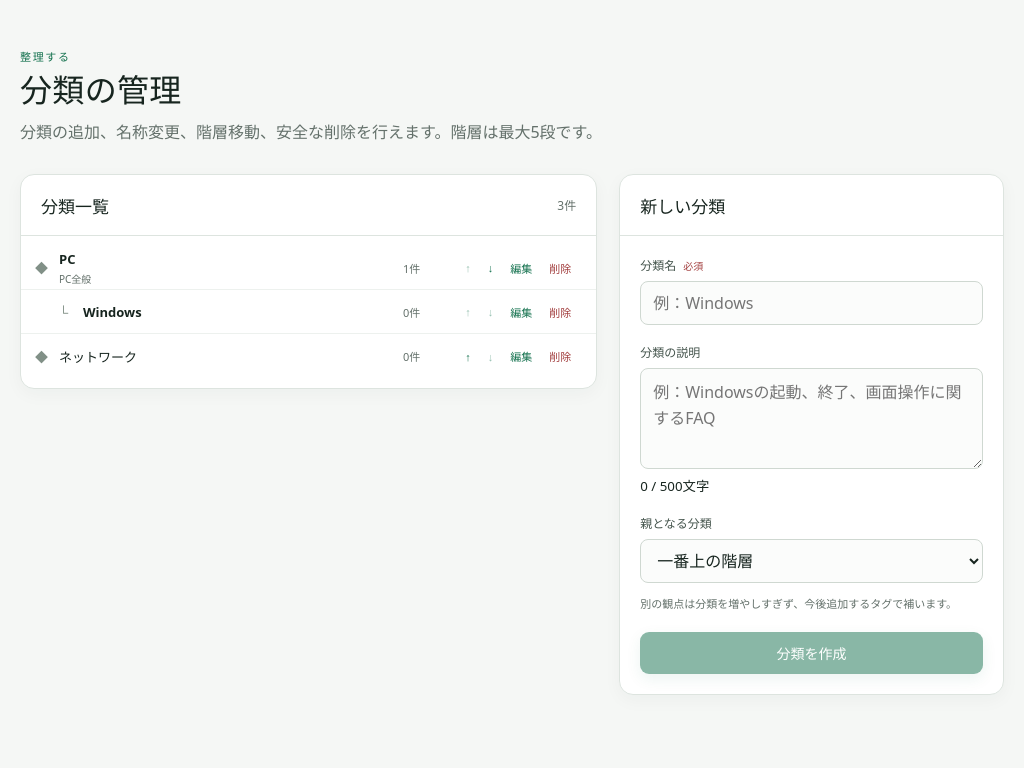
Test case: CategoriesPage › shows why a non-empty category cannot be deleted
Click the button "削除" in the row of "PC全般": (560, 268) [542,255,578,281]
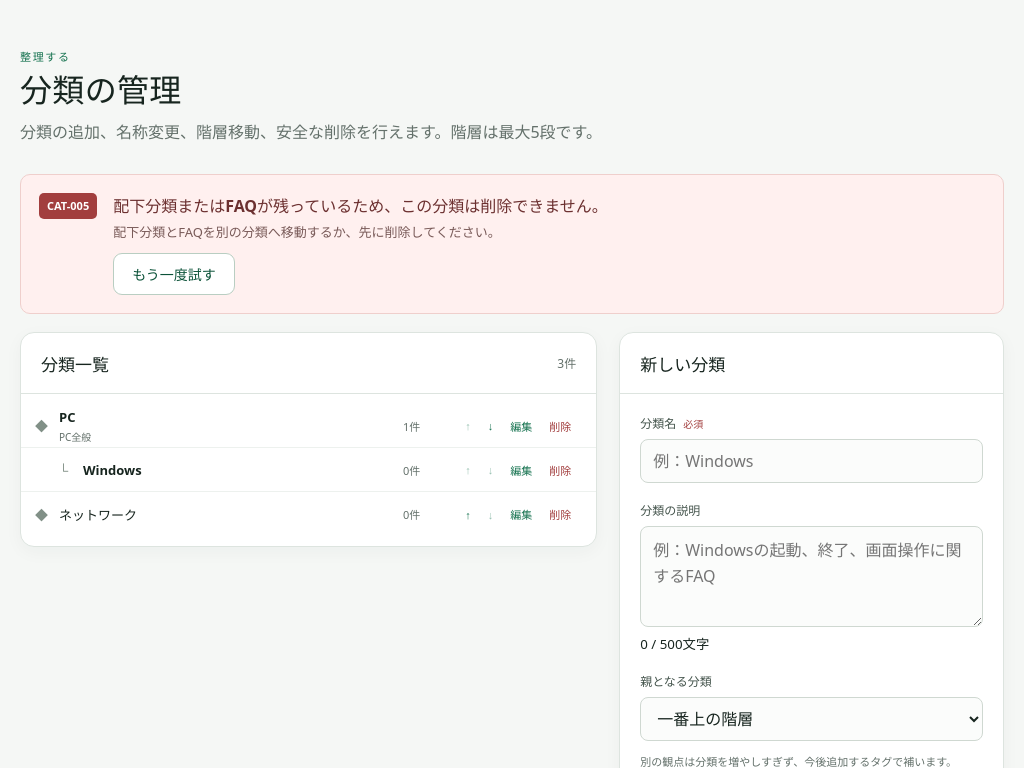
Result: the message shows "CAT-005" at [47,198,89,213]
Result: the message shows "配下分類またはFAQが残っている" at [113,195,608,217]
